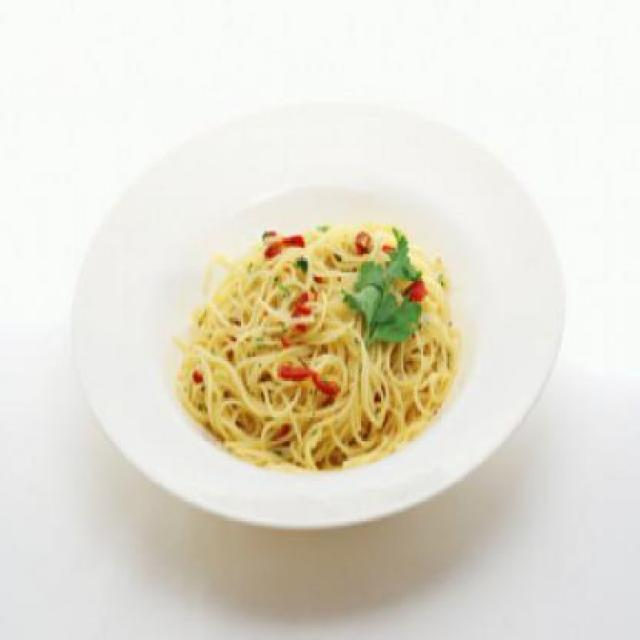Oil pasta: (166, 176, 489, 475)
